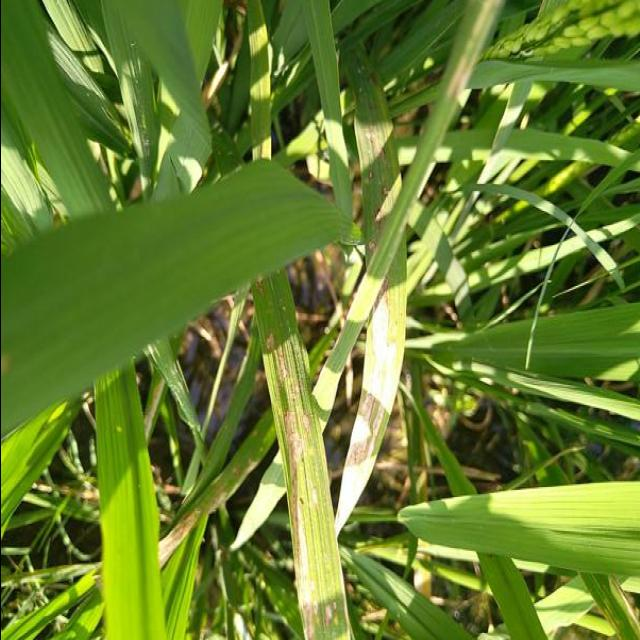Leaf Streak: (310, 0, 505, 412), (254, 266, 348, 640), (333, 258, 405, 537), (155, 416, 268, 569), (351, 42, 400, 242), (577, 573, 640, 640), (140, 372, 164, 440)
